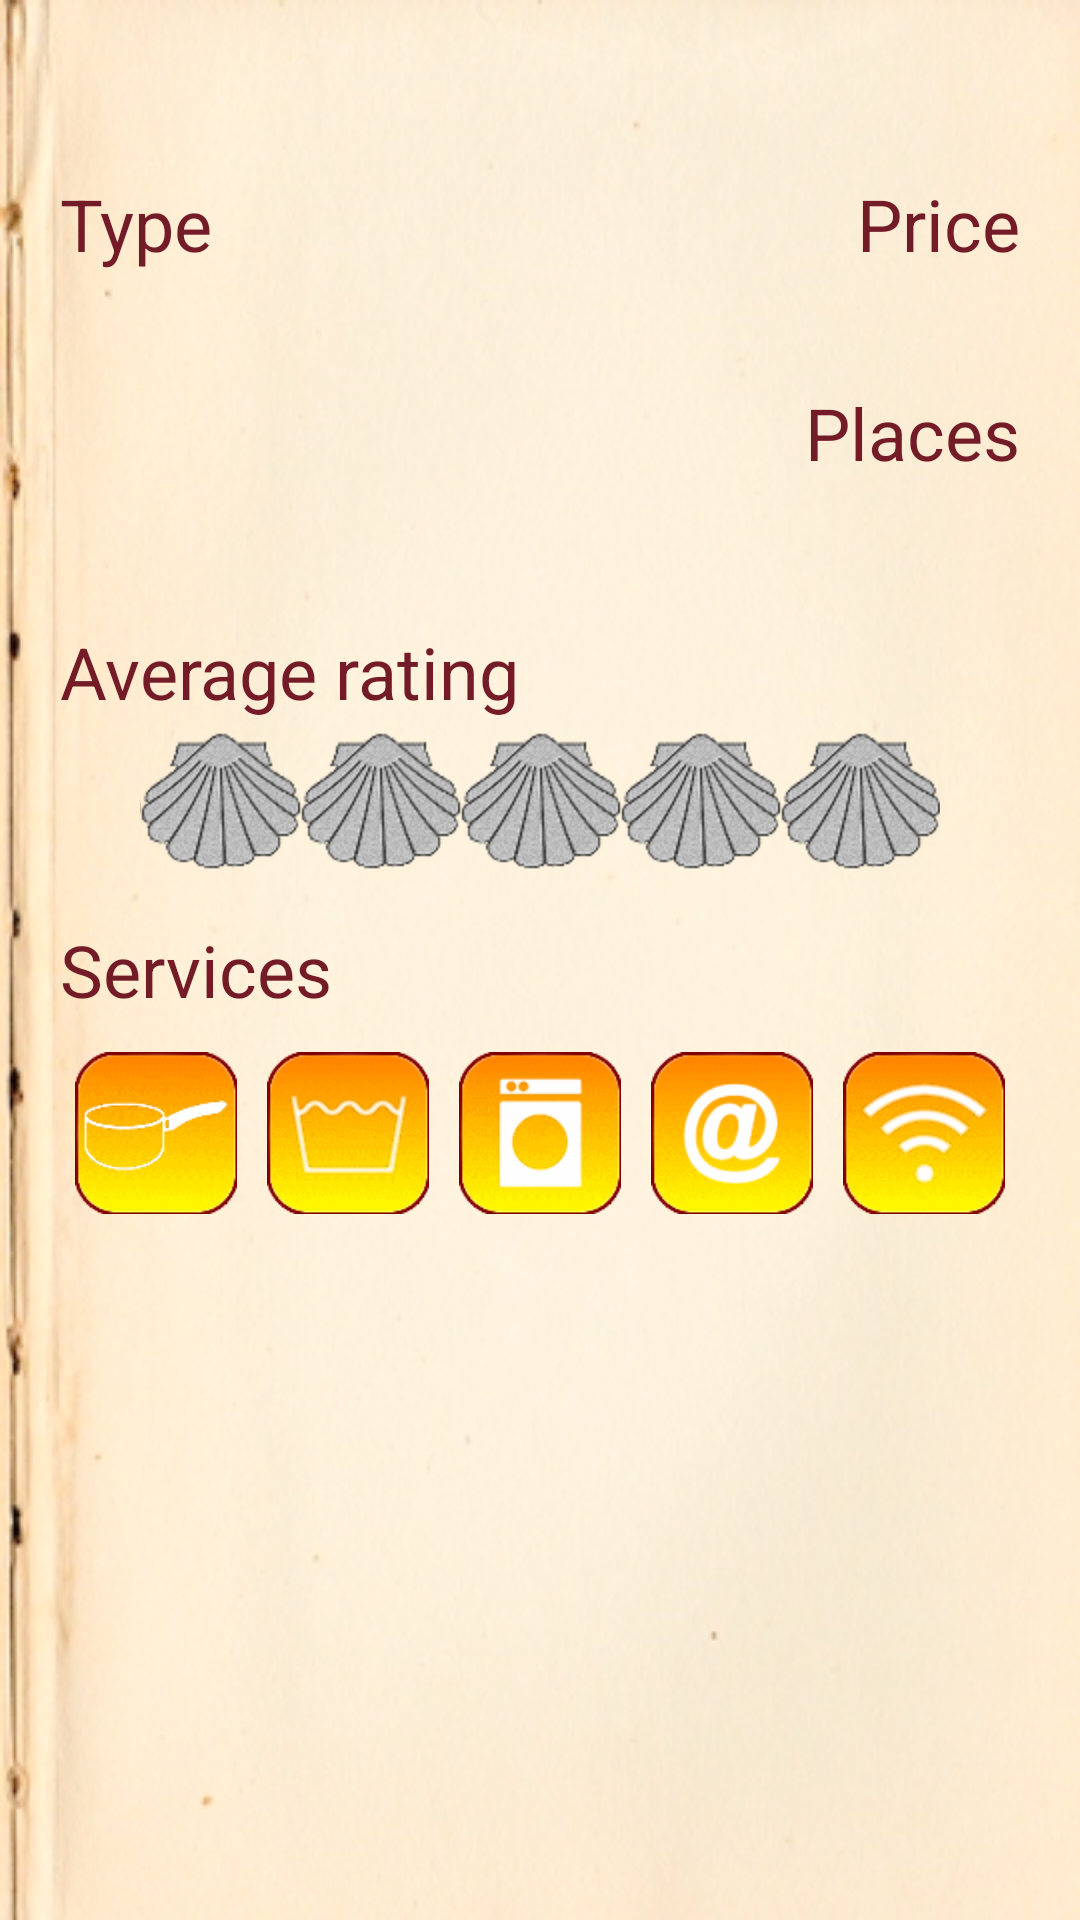

Icon bounding boxes for this 1080 × 1920 phone screenshot, format (x1, y1, x2, y2):
cuisine: (60, 1018, 237, 1245)
internet: (651, 1052, 813, 1214)
wifi: (843, 1052, 1005, 1214)
